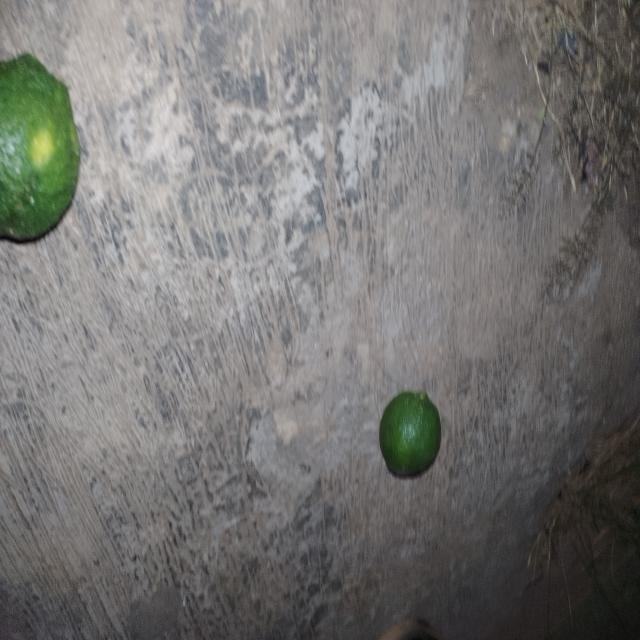Unripe: (0, 20, 85, 277), (368, 373, 457, 511)
